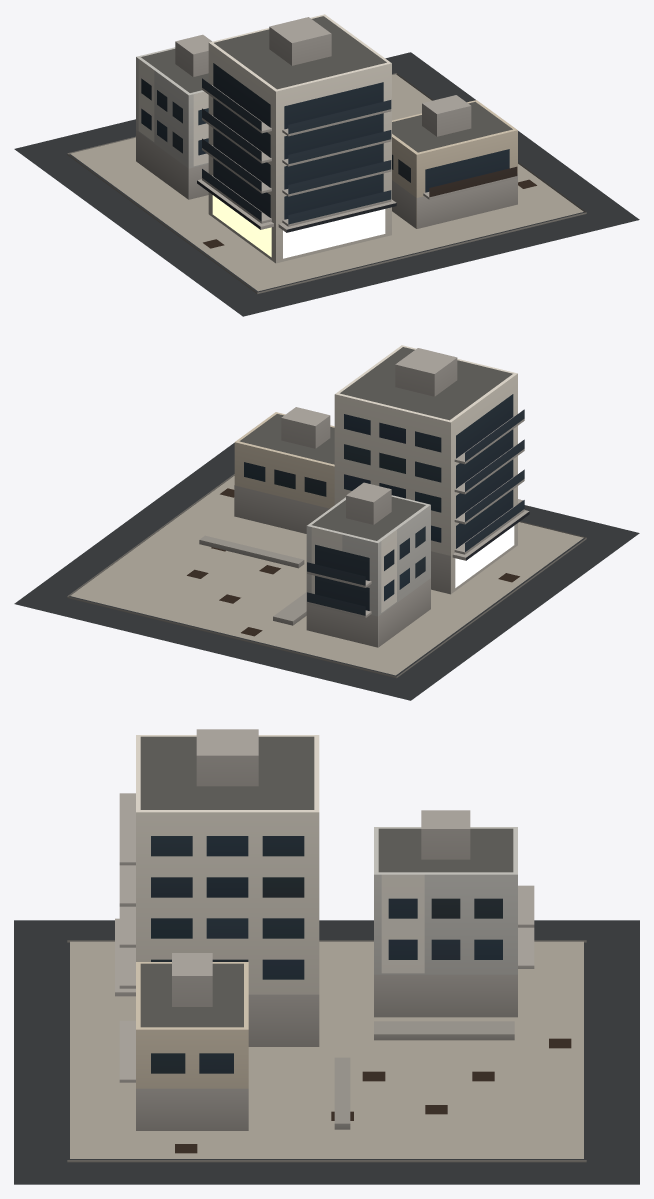
Rendered from modulo_G_lod1.glb.
The picture shows the model from 3 angles, top to bottom: view 1: azimuth 30°, elevation 25°; view 2: azimuth 150°, elevation 25°; view 3: azimuth 270°, elevation 25°; orthographic projection. The views are drawn at different scales.
Parts seen in each view (by area): view 1: modulo_G_lod1; view 2: modulo_G_lod1; view 3: modulo_G_lod1.
Part boxes in pixels (x1,y1,x2,y2): modulo_G_lod1: (14, 14, 639, 316); modulo_G_lod1: (14, 345, 639, 700); modulo_G_lod1: (14, 729, 639, 1184).
Bounding box in the file's own units: 40 × 18.91 × 40.
